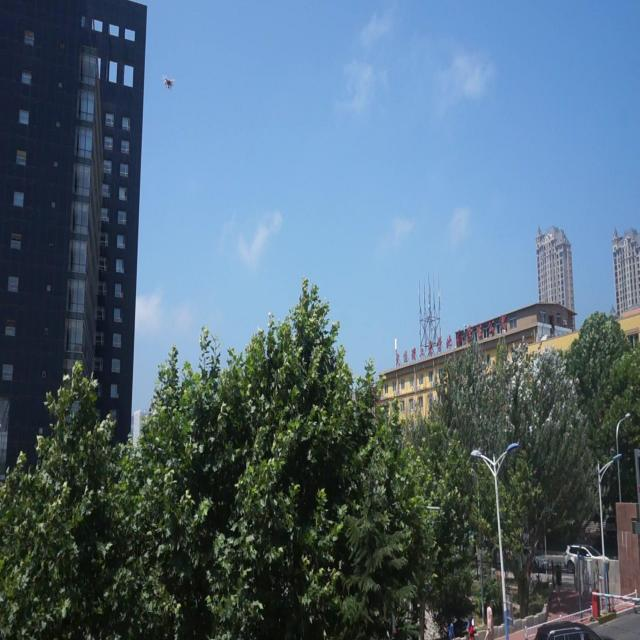UAV: (162, 74, 176, 91)
